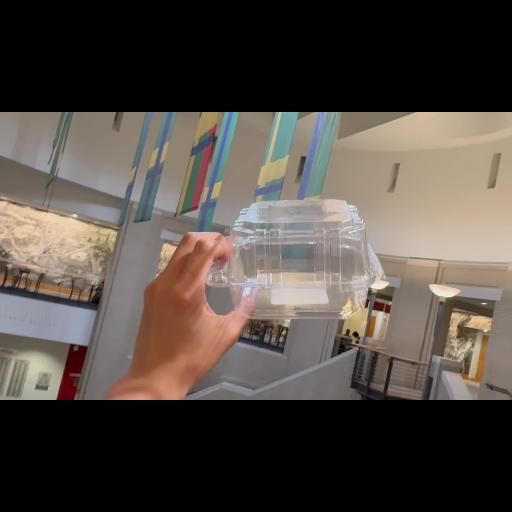small_plastic_container: (210, 200, 378, 322)
